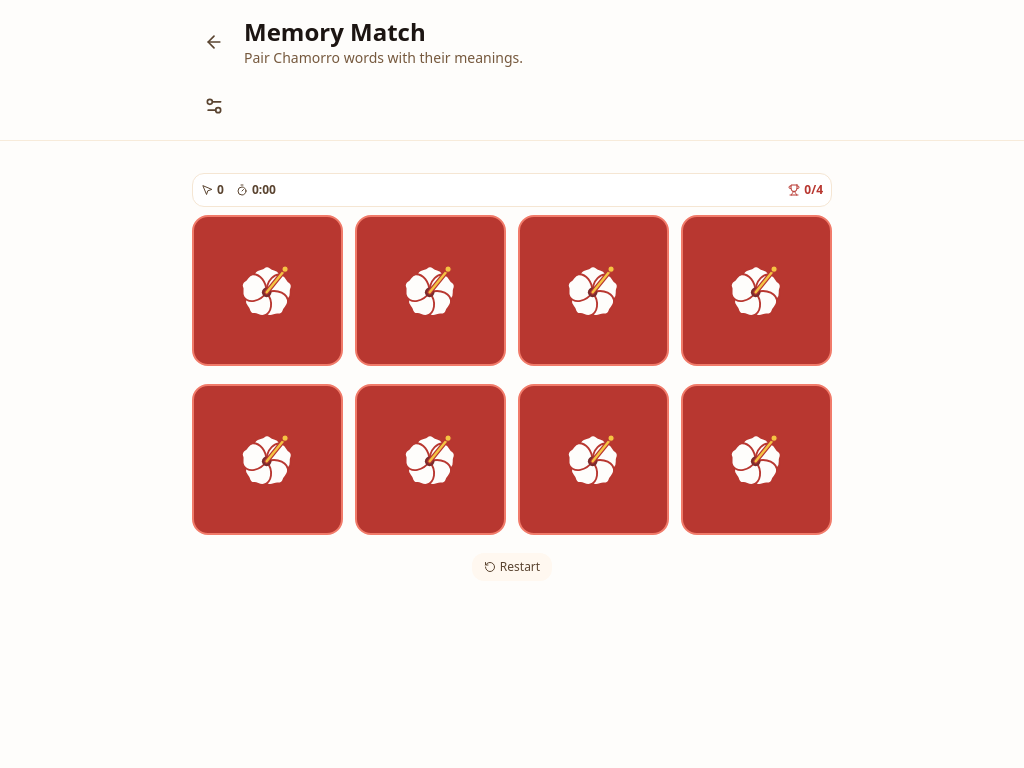
Test: contextual learning game navigation › memory guards its today exit and returns to / when confirmed
The image size is (1024, 768).
Click the 1st button named "Reveal memory card".
click(268, 290)  # box [192,215,343,366]
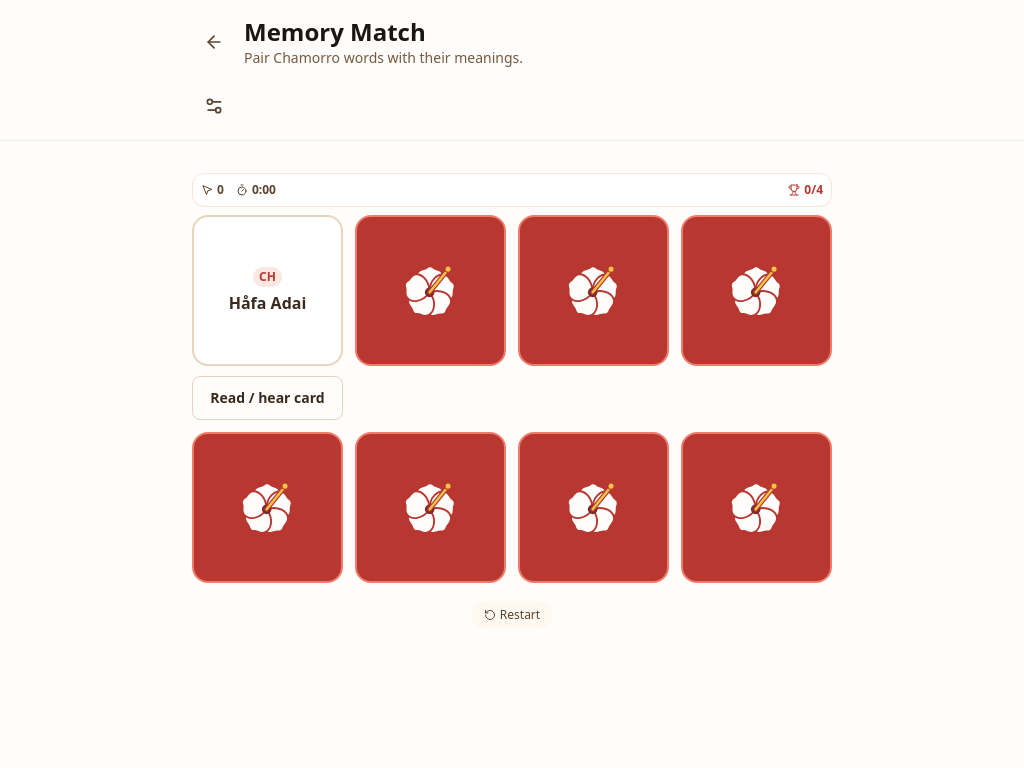
Click the 1st button named "Reveal memory card".
click(430, 290)  # box [355,215,506,366]
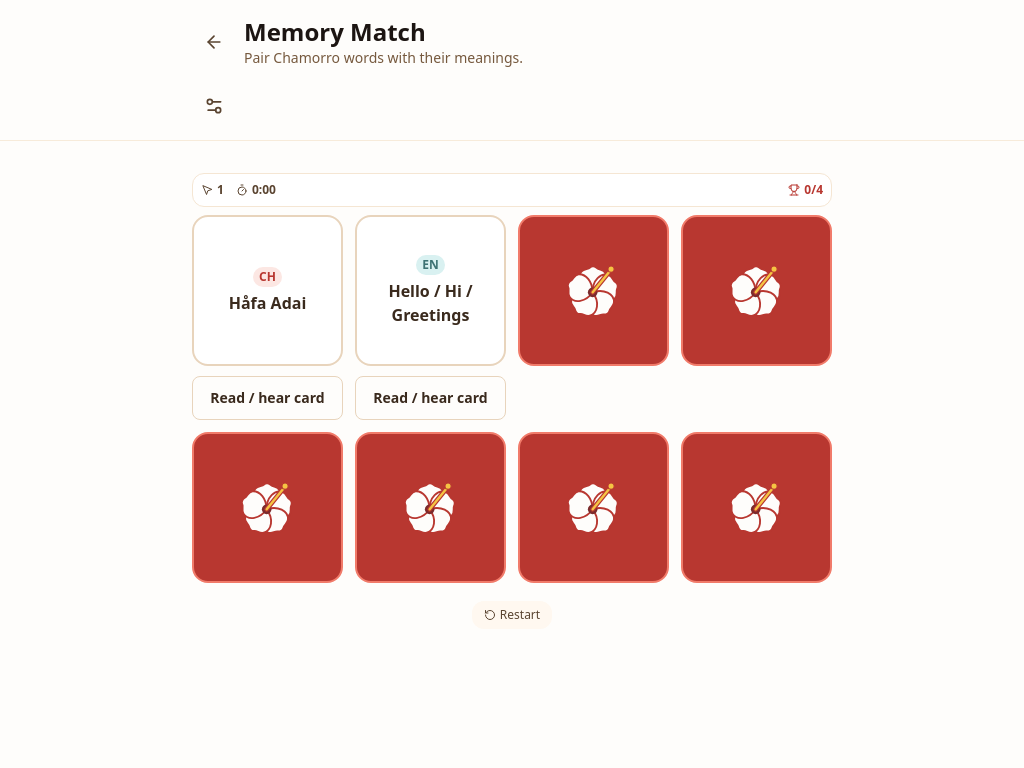
Click the button named "Back to Today".
click(214, 42)  # box [192,20,236,64]
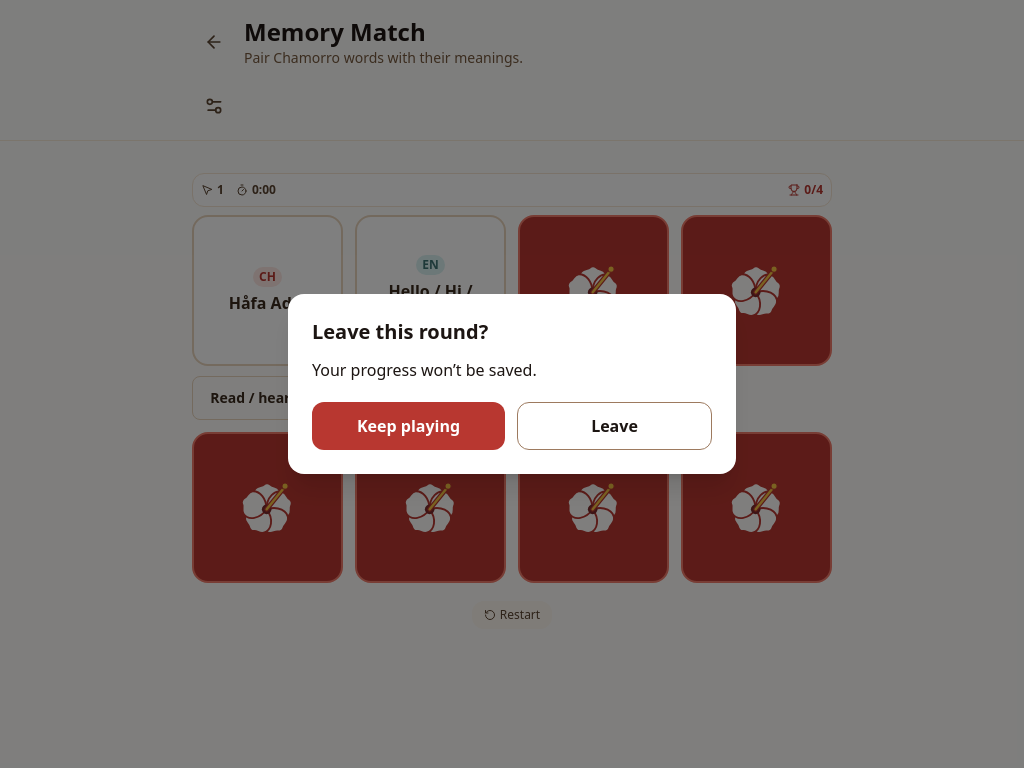
Result: the dialog shows "Leave this round?" at [312,318,488,345]
Click the button "Keep playing".
click(408, 426)  # box [312,402,505,450]
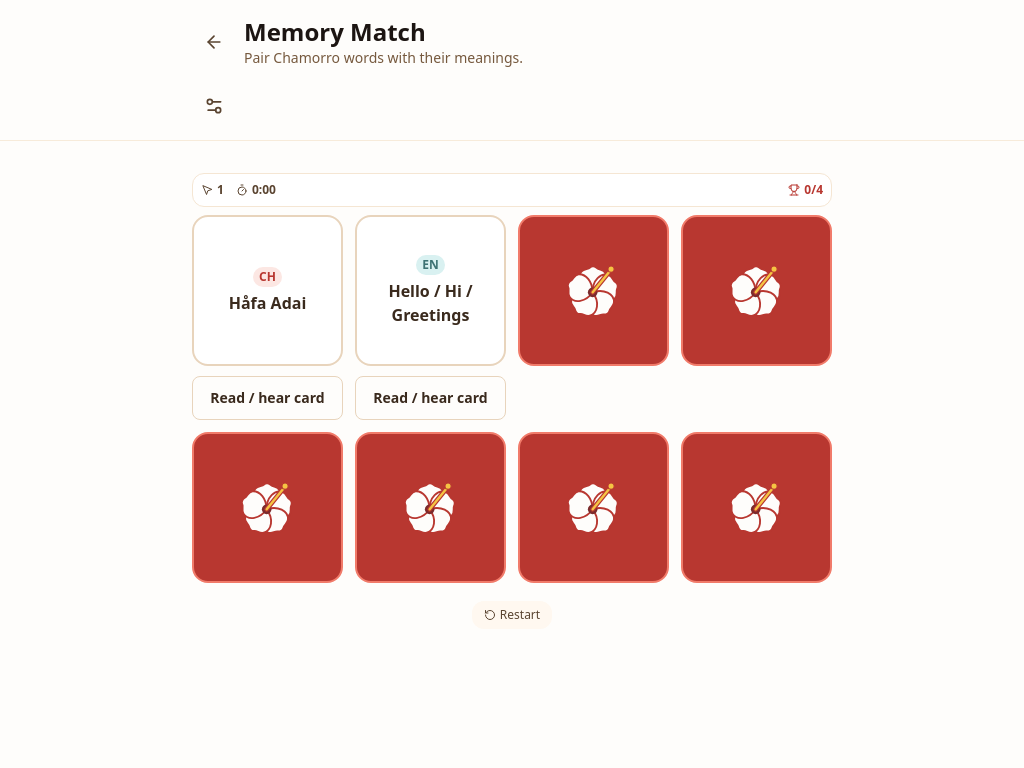
Click the button named "Back to Today".
click(214, 42)  # box [192,20,236,64]
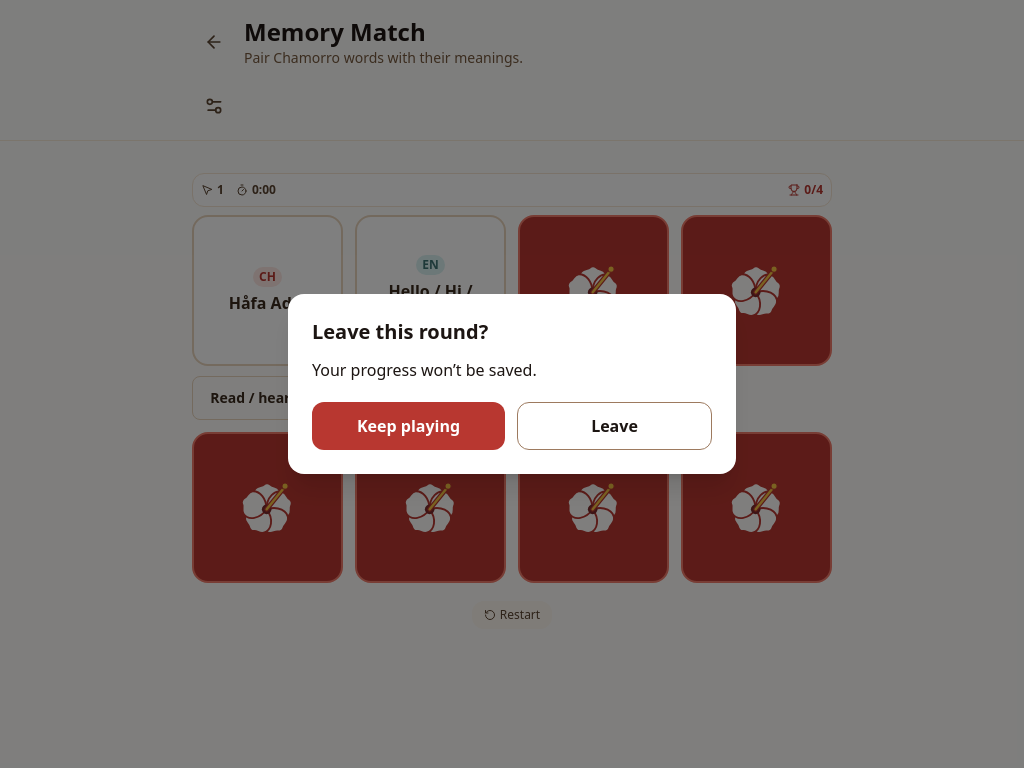
Click the button "Leave".
click(614, 426)  # box [517,402,712,450]
(page scrolled)
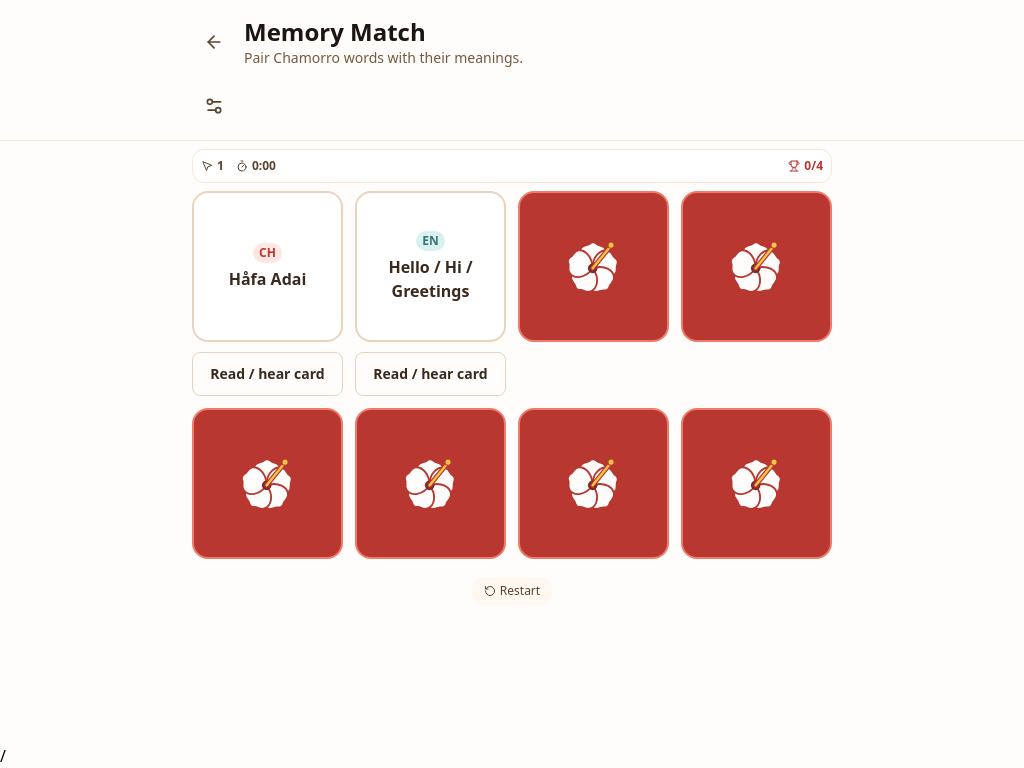
Result: the text with test id "current-location" reads "/" at [0,745,6,767]
